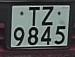4: (39, 25, 54, 47)
5: (53, 23, 67, 46)
8: (26, 26, 41, 47)
9: (12, 26, 27, 48)
T: (27, 5, 41, 28)
Z: (40, 5, 55, 28)
